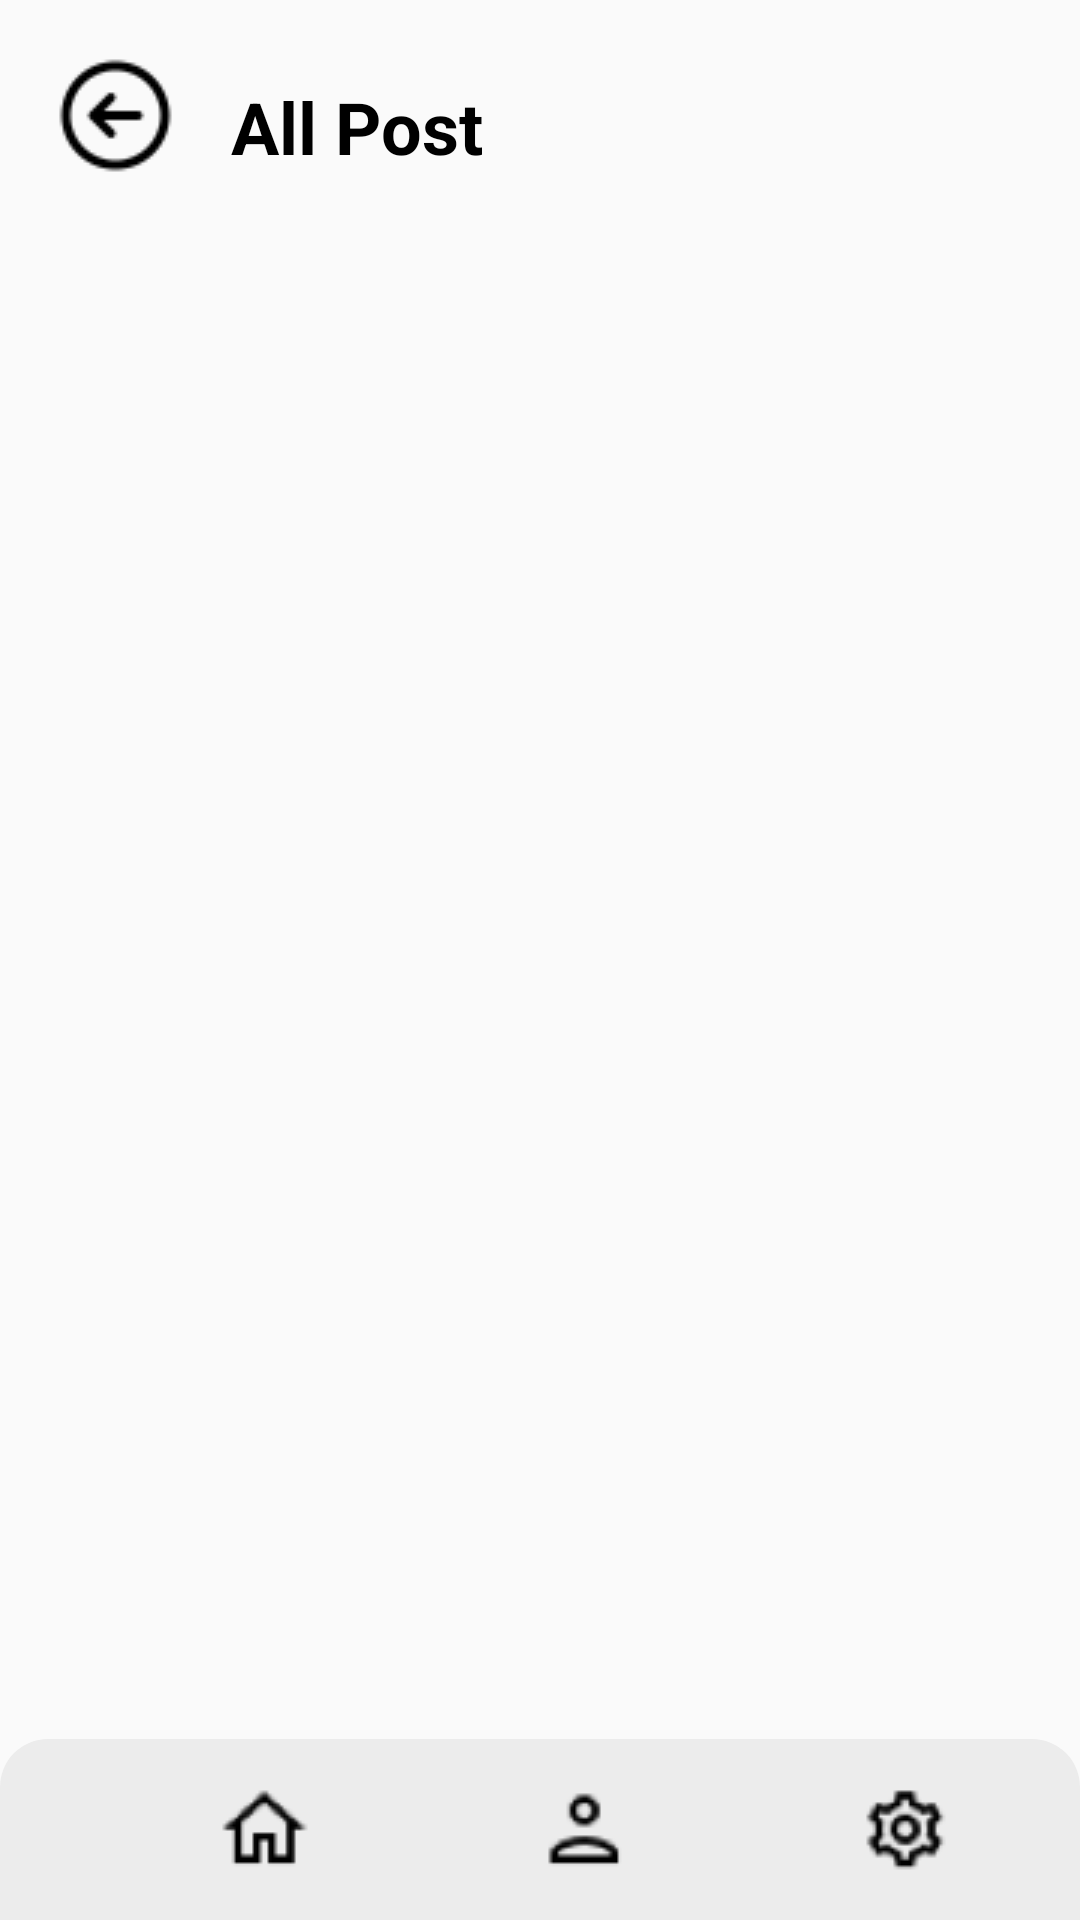

Icon click points for this 1080x1920 phone screenshot, format (x=x, y=y):
Back: (x=115, y=115)
custom account controller: (x=583, y=1828)
custom home controller: (x=264, y=1827)
custom setting controller: (x=904, y=1829)
